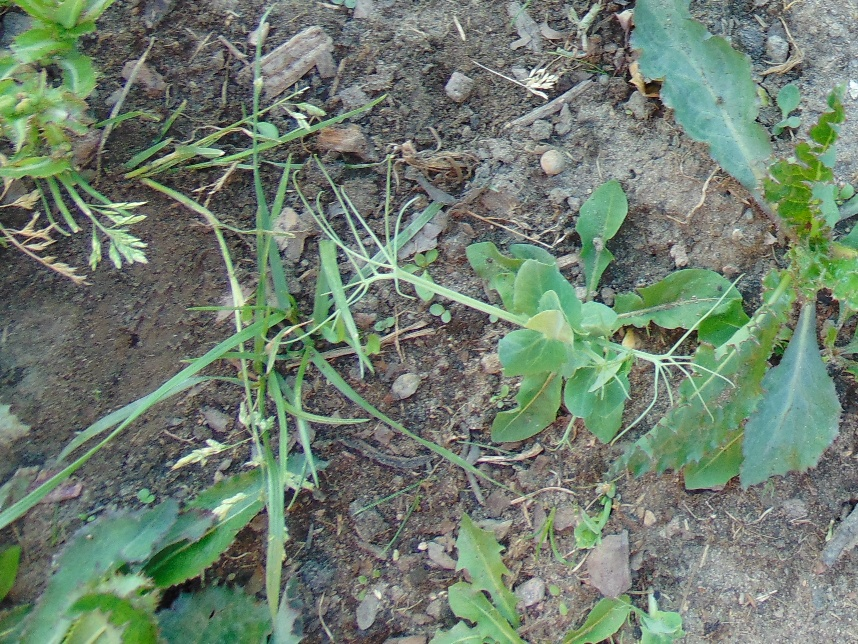crop: (343, 222, 709, 449), (572, 491, 619, 551), (639, 584, 686, 644)
weed: (627, 1, 855, 491), (1, 437, 333, 644), (164, 263, 360, 462), (1, 1, 150, 253), (117, 96, 294, 231), (428, 505, 545, 644), (616, 267, 750, 338), (572, 185, 631, 294), (457, 240, 543, 300), (546, 590, 636, 644)
